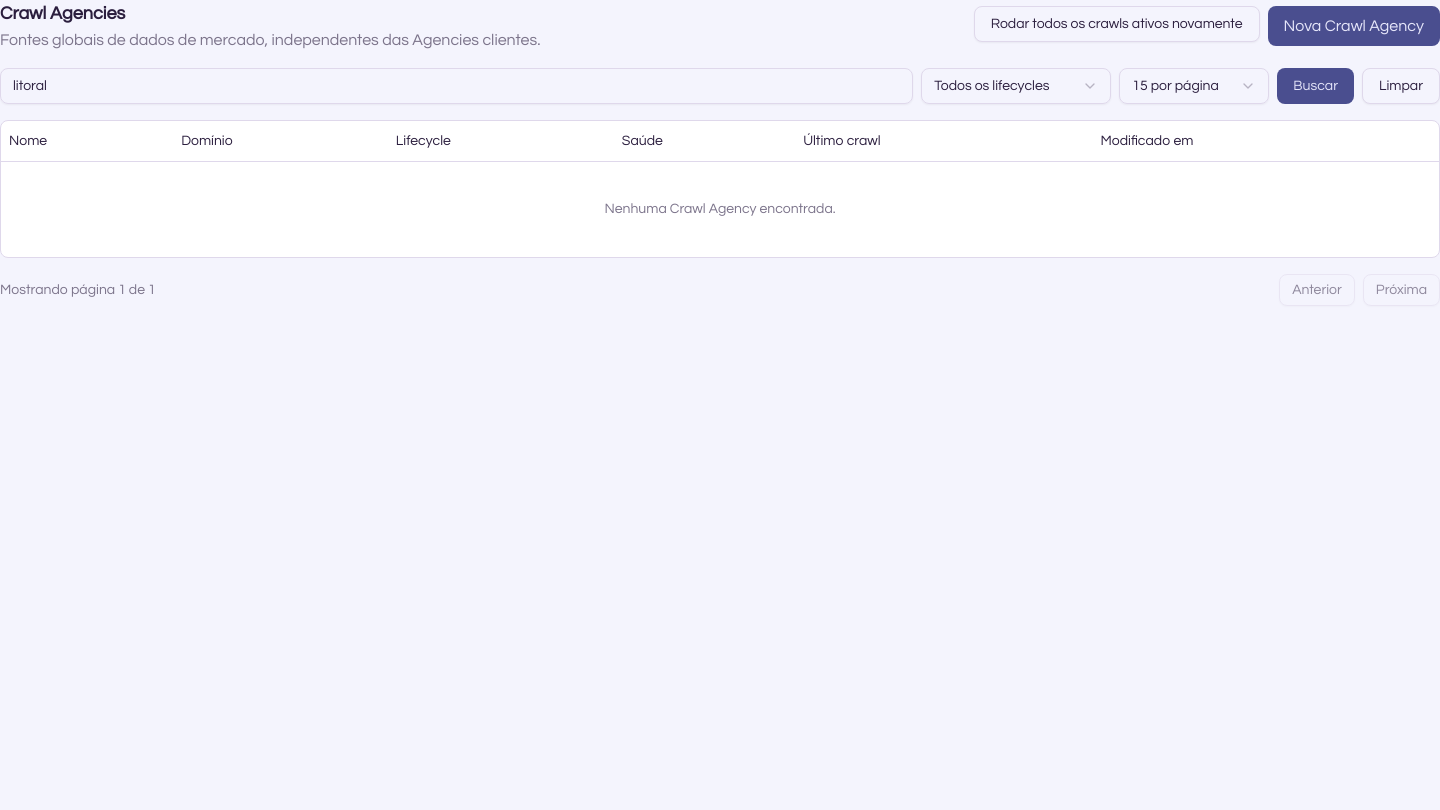
Test: CrawlAgenciesClient › confirms the global action and reports queued and skipped agencies
Click the button "Rodar todos os crawls ativos novamente" at (1117, 24), box x1=974 y1=6 x2=1260 y2=42
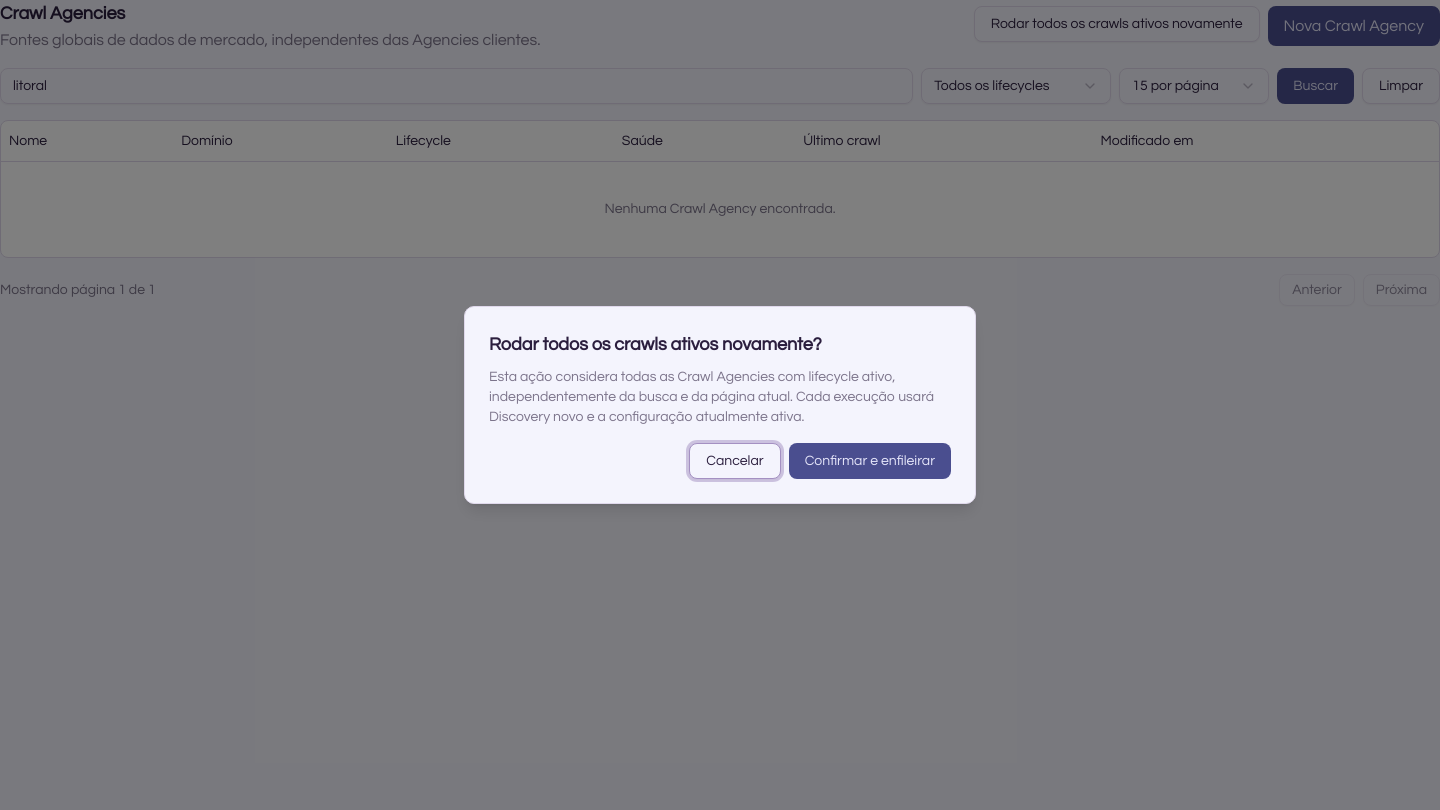
Expected: the dialog shows "independentemente da busca e da página atual", x1=489 y1=370 x2=934 y2=424
Click the button "Confirmar e enfileirar" at (870, 461), box x1=789 y1=443 x2=951 y2=479
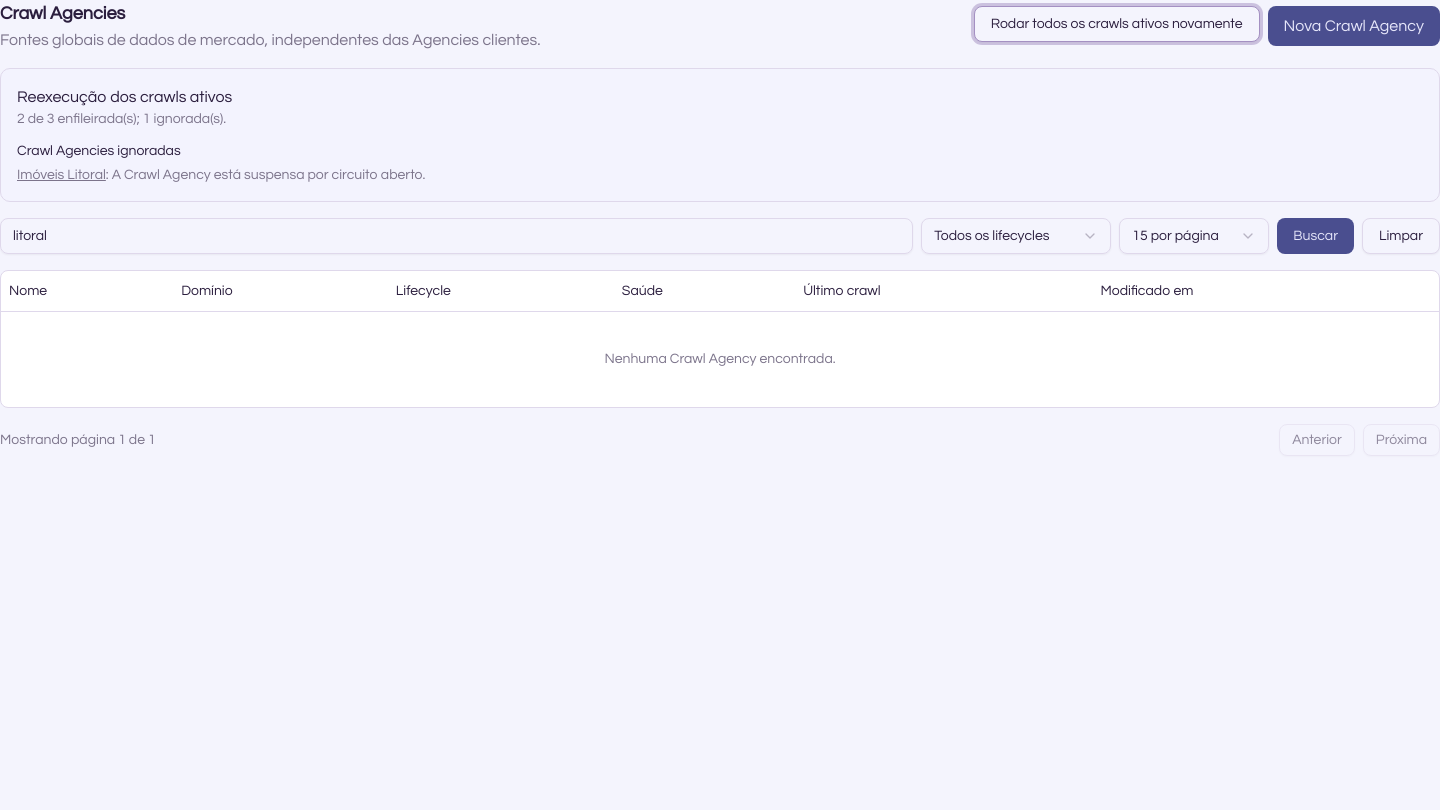
Expected: the message shows "2 de 3 enfileirada(s); 1 ignorada(s)", x1=0 y1=68 x2=1439 y2=202
